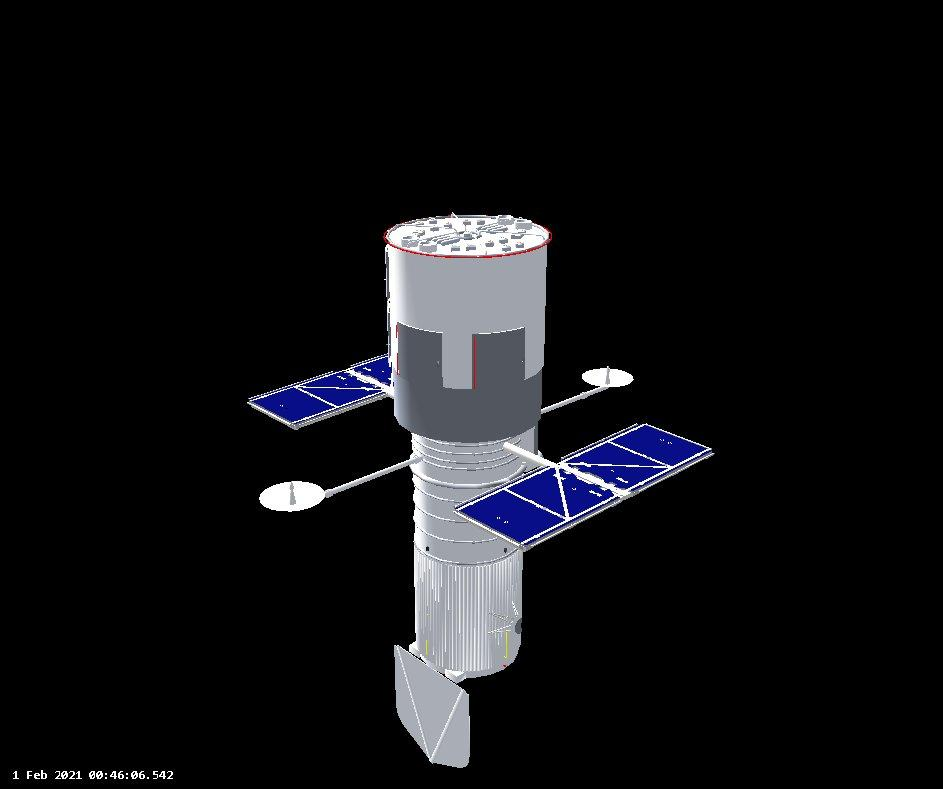antenna: (256, 480, 330, 515), (577, 365, 635, 391), (513, 616, 527, 634)
body: (381, 205, 554, 686)
solar: (451, 419, 718, 554), (242, 348, 393, 432)
